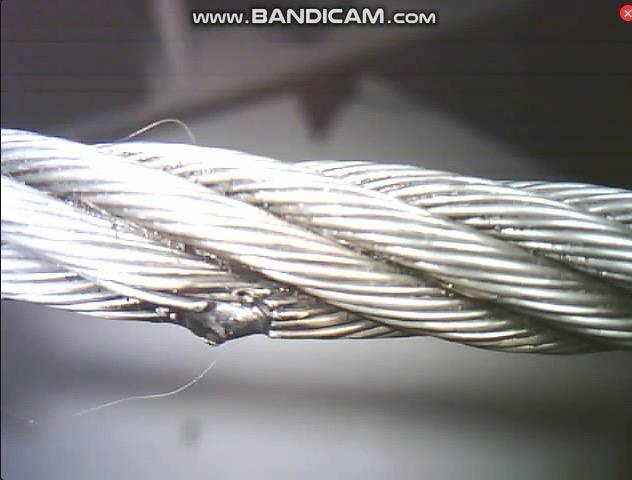thunderbolt: (164, 275, 276, 351)
